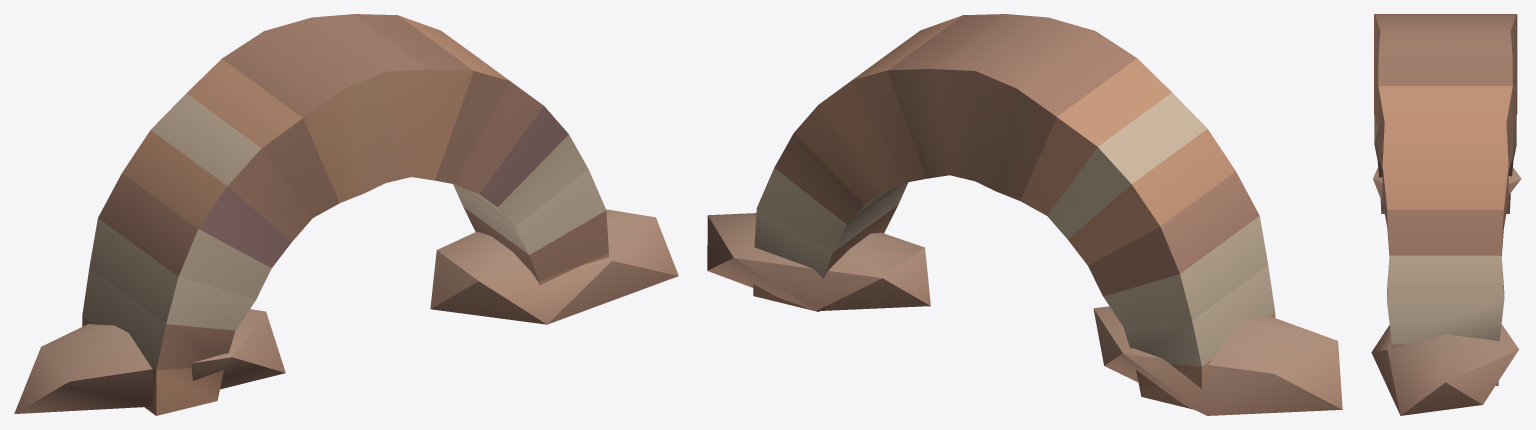
The model's file is rock_arch.glb.
3 views of the same model, side by side, from view 1: azimuth 30°, elevation 25°; view 2: azimuth 150°, elevation 25°; view 3: azimuth 270°, elevation 25° (orthographic). The views are drawn at different scales.
Visible parts, largest first — view 1: rock_arch; view 2: rock_arch; view 3: rock_arch.
Part boxes in pixels (bbox=[...]): rock_arch: bbox=[14, 14, 678, 415]; rock_arch: bbox=[707, 14, 1342, 415]; rock_arch: bbox=[1371, 14, 1521, 415].
Bounding box in the file's own units: 25.93 × 12.06 × 5.95.
